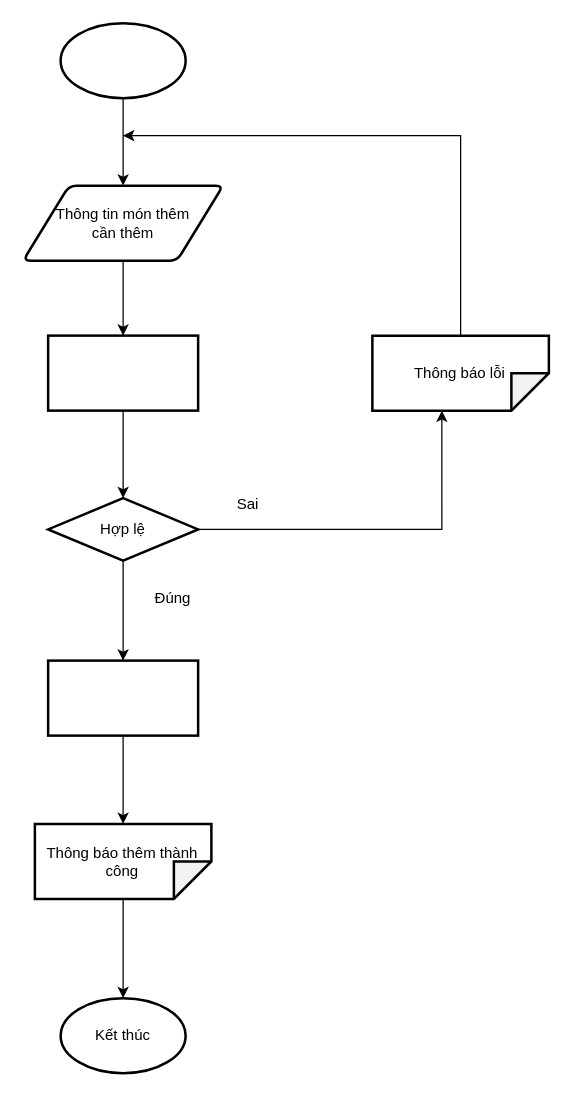
Image size: 571x1095. Some labels were removed from this diagram. Here are the shapes that lost their labels. From the top down, the box of each, then its label:
(59, 21, 186, 99): Bắt đầu
(46, 334, 199, 411): Kiểm tra tính hợp lệ của thông tin
(46, 659, 199, 736): Cập nhật dữ liệu vào database
